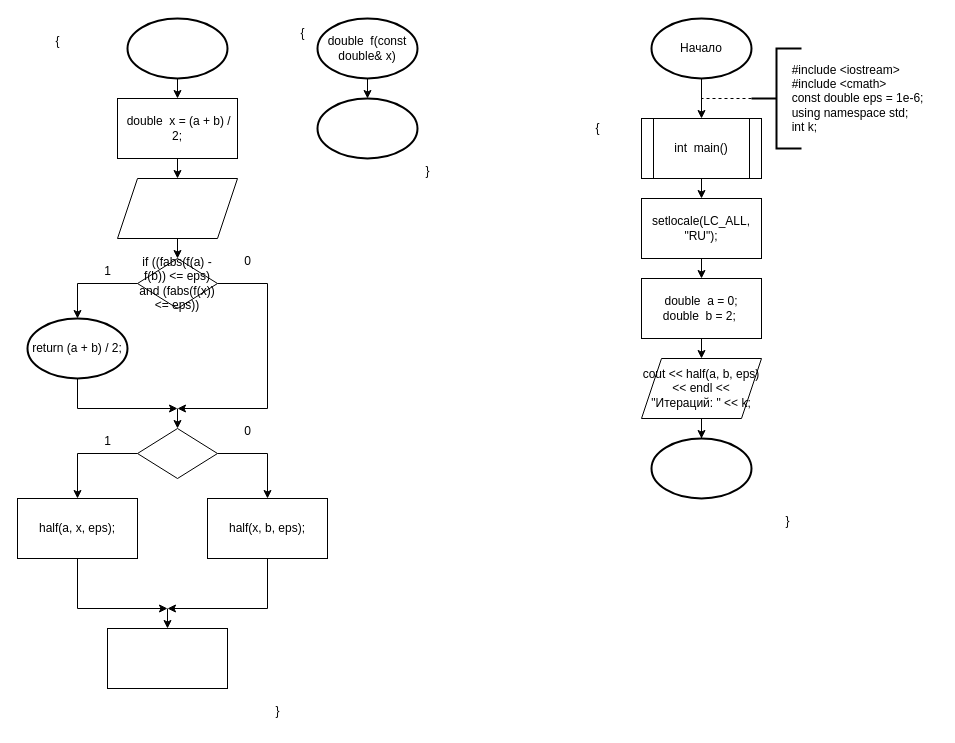
The diagram is 955 pixels wide and 743 high, and some of its shapes have lost their labels. Here are the shapes that lost their labels. From the top down, the centre of each, then its label:
[177,48]: double half(double a, double b, double eps)
[367,128]: return 0.25 * pow(x, 3) + x - 1.2502;
[177,208]: cout << x << endl;
[177,453]: if (f(a) * f(x) <= 0.0)
[701,468]: return 0;
[167,658]: k++;
